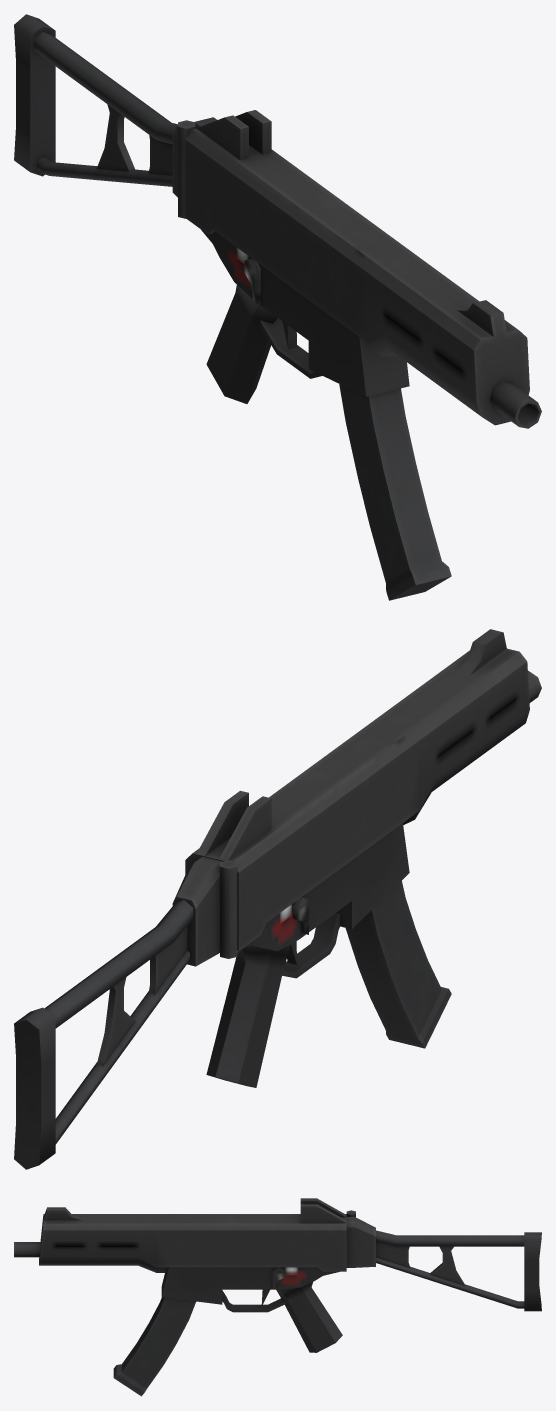
File: UMP9.fbx
The picture shows the model from 3 angles, top to bottom: view 1: azimuth 30°, elevation 25°; view 2: azimuth 150°, elevation 25°; view 3: azimuth 270°, elevation 25°; orthographic projection. The views are drawn at different scales.
Visible parts, largest first — view 1: UMP9; view 2: UMP9; view 3: UMP9.
Boxes of the visible parts, x1,y1,x2,y2 form: UMP9: [14, 14, 541, 600]; UMP9: [14, 629, 541, 1169]; UMP9: [14, 1198, 541, 1396].
Bounding box in the file's own units: 4.74 × 28.99 × 73.24.
Materials: 1 (1 with a texture image).
